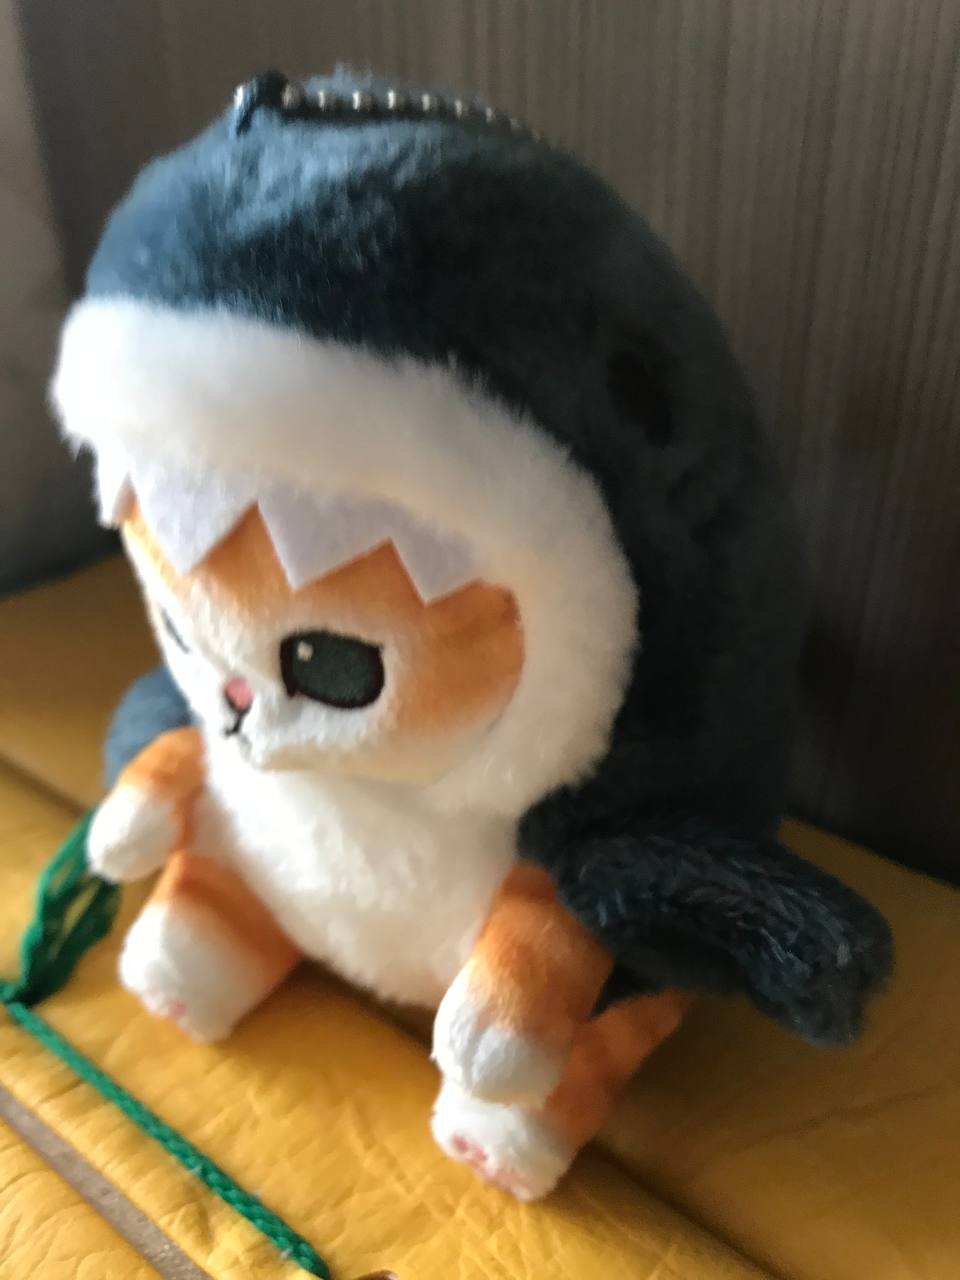cat_shark: (50, 69, 899, 1211)
